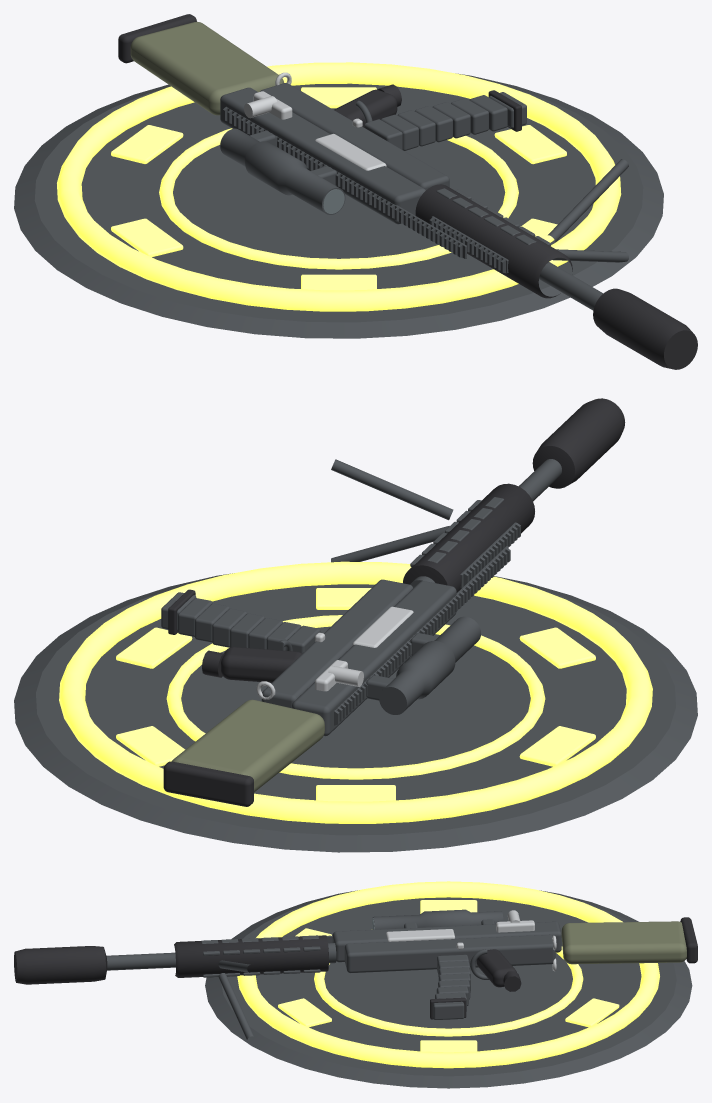
File: battle-royale-town-and-airfield-loot-marksman-rifle-le-6a6f30fa__28221.glb
3 views of the same model, one above another, from view 1: azimuth 30°, elevation 25°; view 2: azimuth 150°, elevation 25°; view 3: azimuth 270°, elevation 25° (orthographic). The views are drawn at different scales.
Parts seen in each view (by area): view 1: loot-marksman-rifle-legendary, magazine/gunmetal, bolt; view 2: loot-marksman-rifle-legendary, magazine/gunmetal, bolt; view 3: loot-marksman-rifle-legendary, magazine/gunmetal, bolt.
Part boxes in pixels (x1,y1,x2,y2): loot-marksman-rifle-legendary: (14,14,697,369); magazine/gunmetal: (364,92,526,150); bolt: (244,91,292,119); loot-marksman-rifle-legendary: (14,398,697,852); magazine/gunmetal: (161,592,320,653); bolt: (315,660,363,691); loot-marksman-rifle-legendary: (14,881,697,1088); magazine/gunmetal: (433,954,470,1019); bolt: (496,910,534,932).
Size of the model in its own units: 0.94 by 0.1649 by 1.32.
